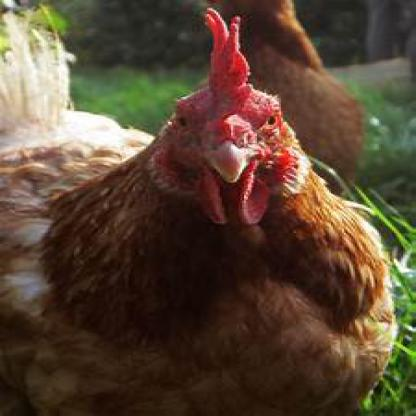chicken: (9, 15, 414, 413)
